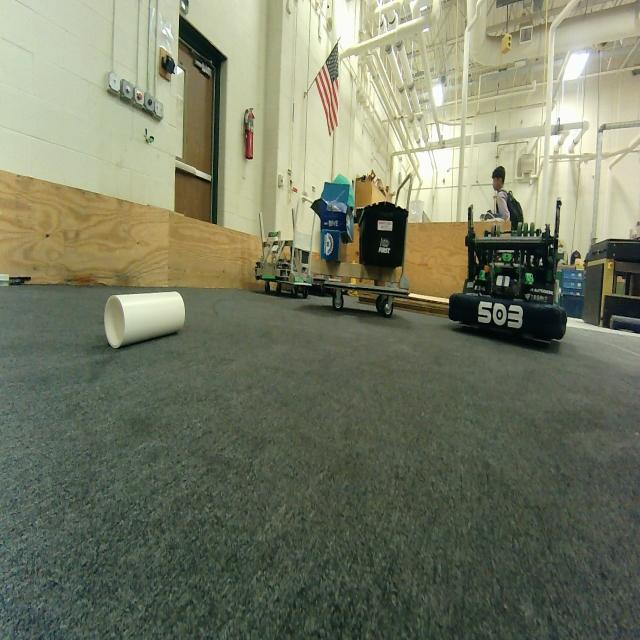coral: (104, 292, 185, 348)
